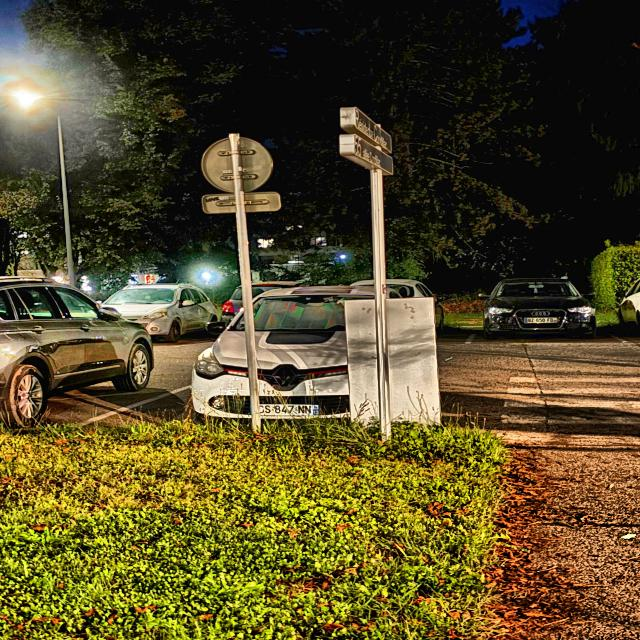carro: (0, 276, 176, 386), (471, 269, 610, 347)
